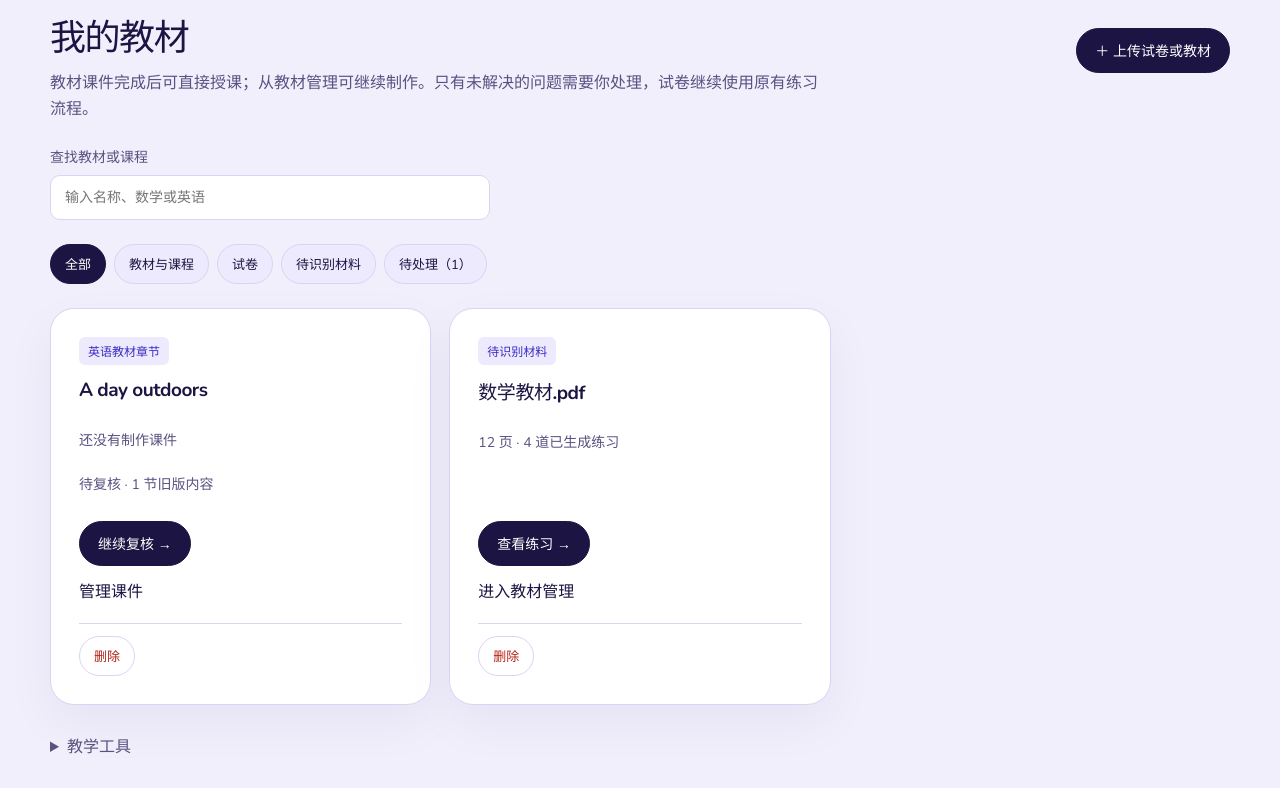
Test: user Given course deletion fails When confirming deletion Then the course remains with a retryable error
(page scrolled)
Expected: the heading "A day outdoors" is shown, [79,377,208,403]
What coordinates should you click on to do the following:
click the button "删除" below "管理课件"
I would click on:
 (107, 656)
Its box is [79,636,135,676].
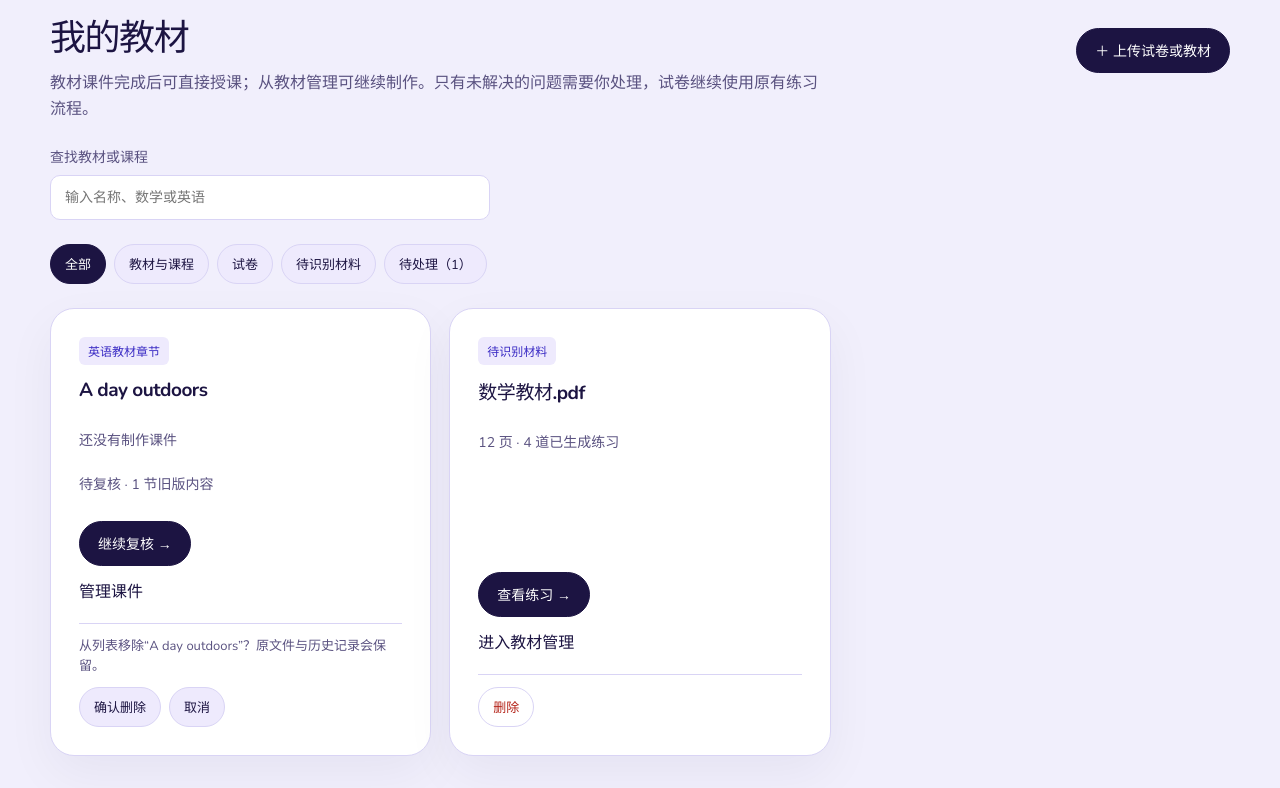
What coordinates should you click on to do the following:
click the button "确认删除"
I would click on:
 (120, 707)
Its box is [79,687,161,727].
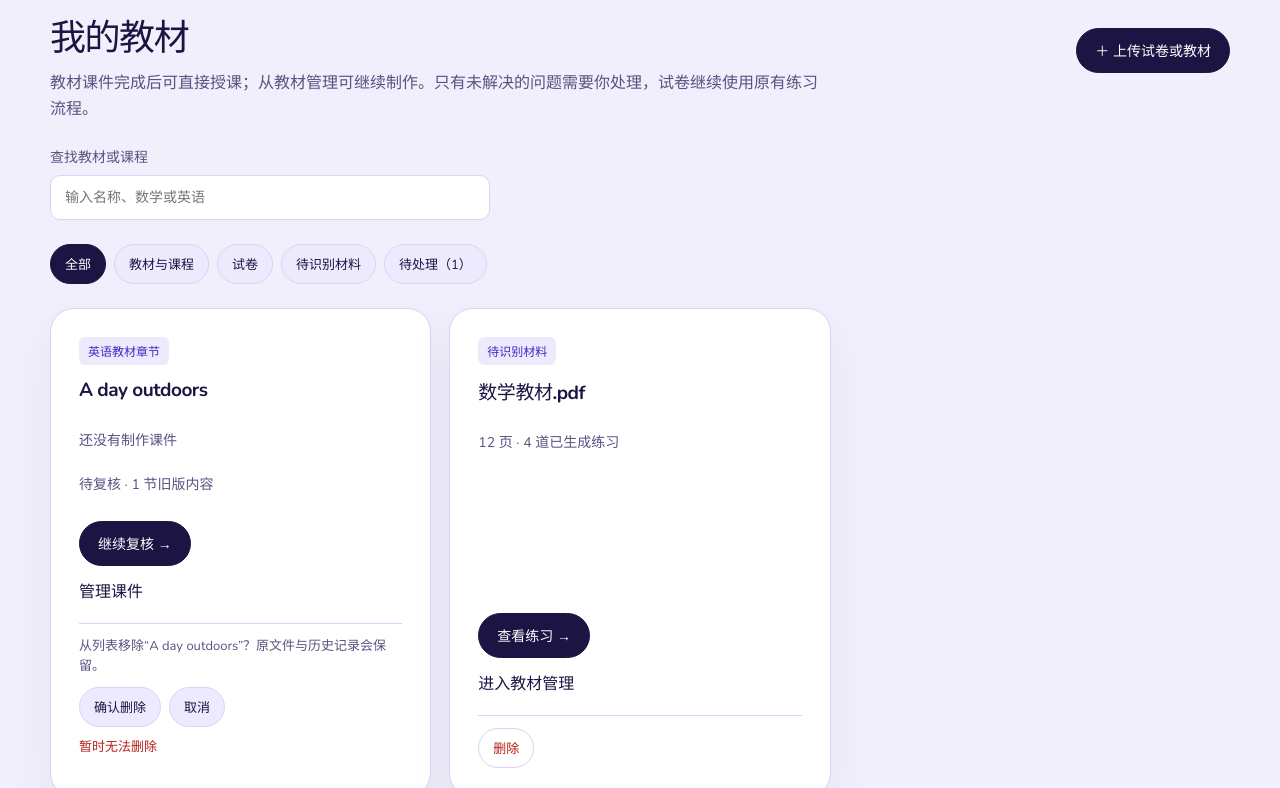
Expected: the heading "A day outdoors" is shown, [79,377,208,403]
Expected: the button "确认删除" is enabled, [79,687,161,727]
Expected: the text "暂时无法删除" is shown, [79,738,157,756]
